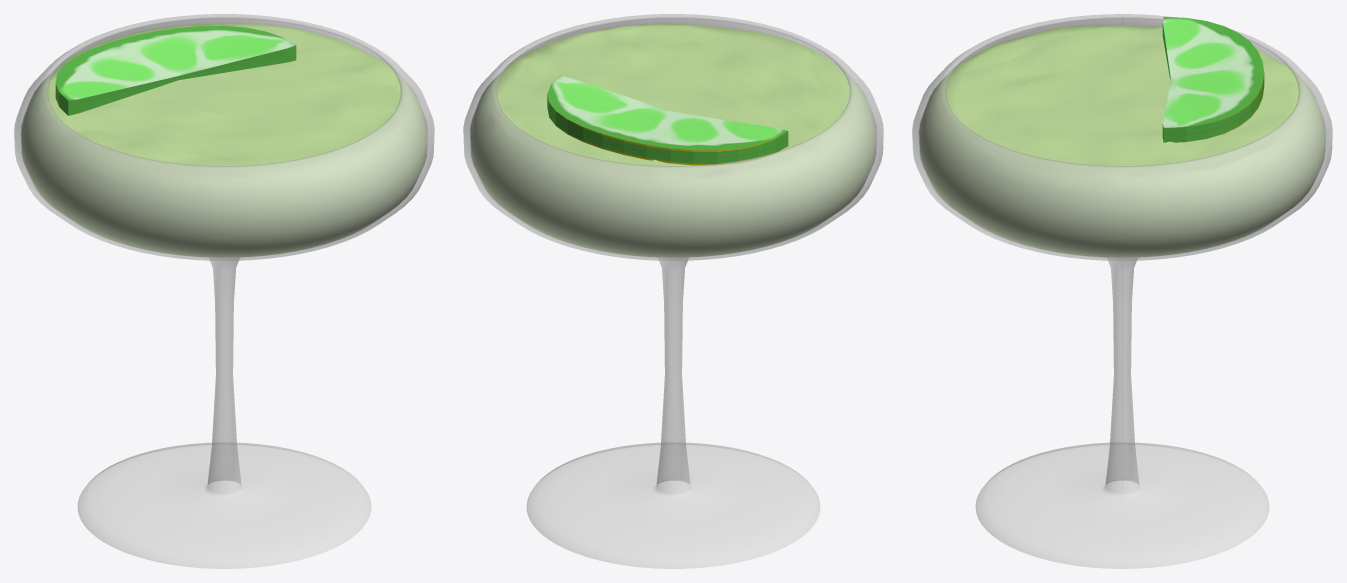
Rendered from margarita.glb.
The picture shows the model from 3 angles, left to right: view 1: azimuth 30°, elevation 25°; view 2: azimuth 150°, elevation 25°; view 3: azimuth 270°, elevation 25°; orthographic projection.
Visible parts, largest first — view 1: Margarita; view 2: Margarita; view 3: Margarita.
Boxes of the visible parts, x1=… form: Margarita: x1=14, y1=14, x2=434, y2=568; Margarita: x1=463, y1=14, x2=883, y2=568; Margarita: x1=912, y1=14, x2=1332, y2=568.
Size of what is drawn, in the model's own units: 0.1679 by 0.1867 by 0.1679.
Materials: 3 (1 with a texture image).
